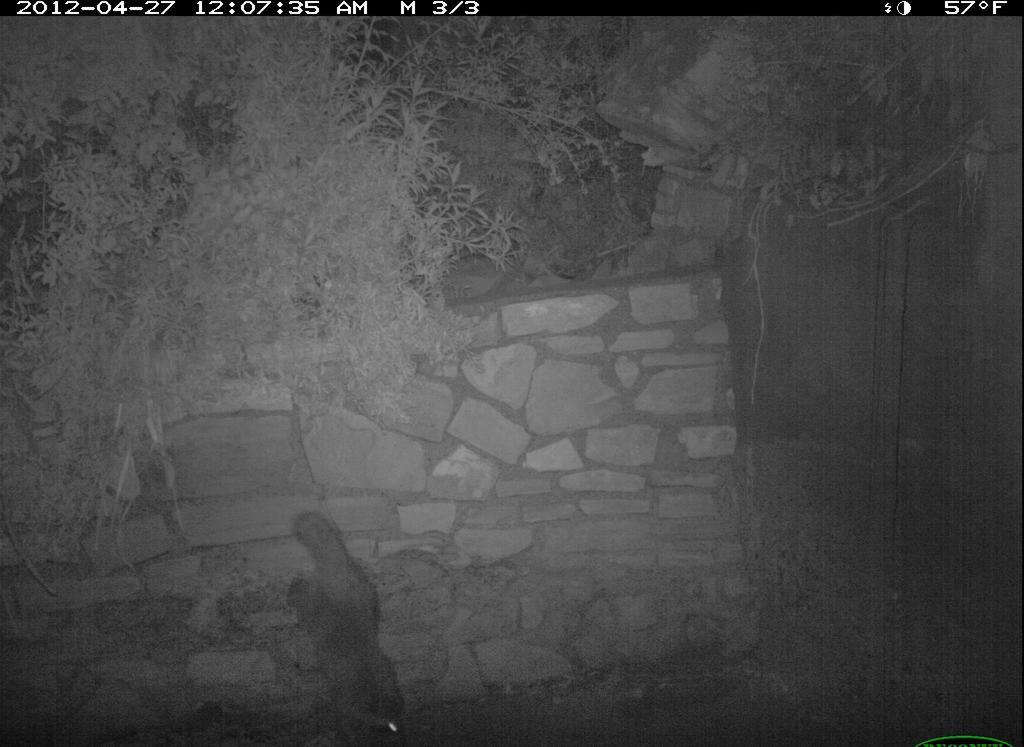raccoon: (280, 510, 413, 740)
